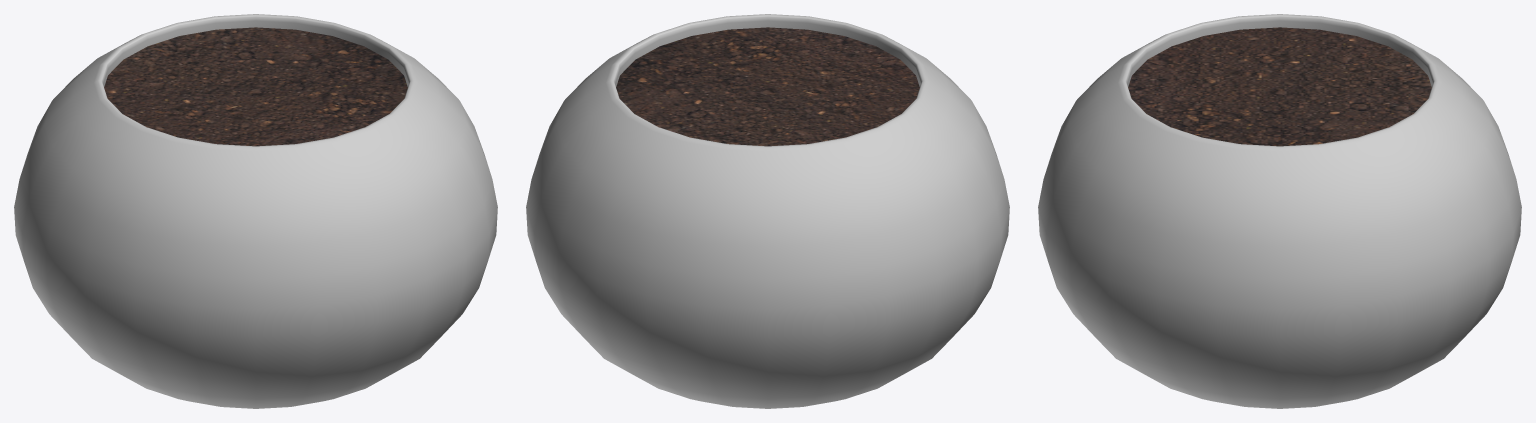
Rendered from pot24.FBX.
3 views of the same model, side by side, from view 1: azimuth 30°, elevation 25°; view 2: azimuth 150°, elevation 25°; view 3: azimuth 270°, elevation 25° (orthographic).
Parts seen in each view (by area): view 1: pot24; view 2: pot24; view 3: pot24.
Part boxes in pixels (<box>): pot24: <box>14,14,497,408</box>; pot24: <box>526,14,1009,408</box>; pot24: <box>1038,14,1521,408</box>.
Size of the model in its own units: 11.98 by 11.98 by 7.4.
